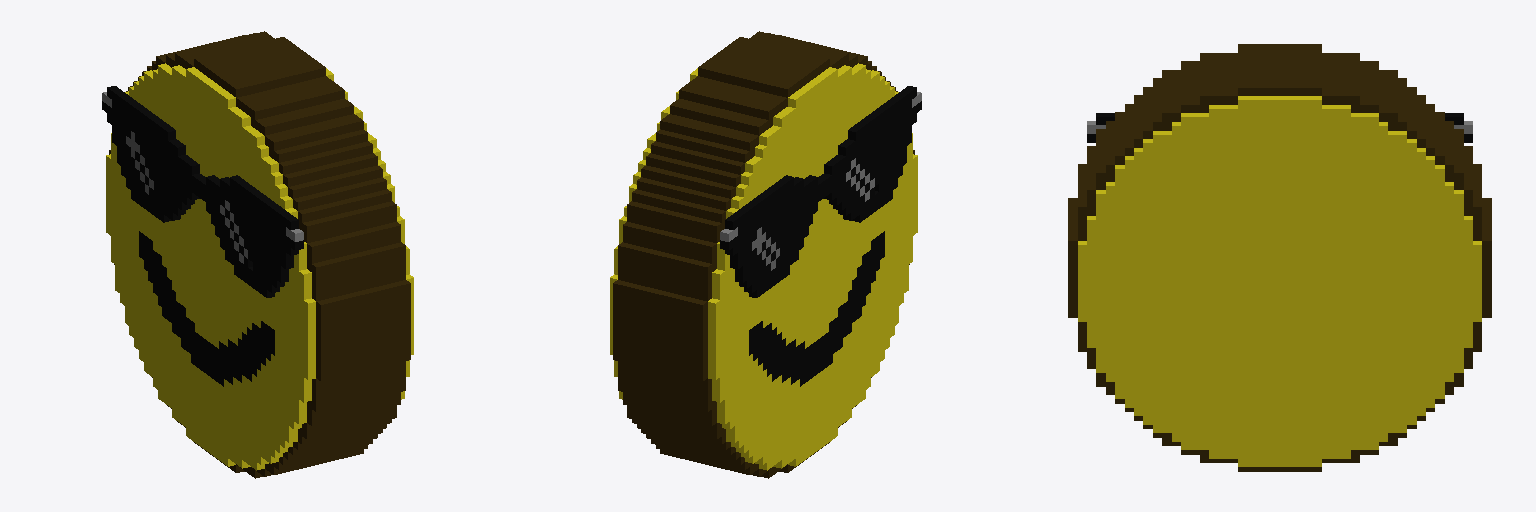
3 views of the same model, side by side, from view 1: azimuth 30°, elevation 25°; view 2: azimuth 150°, elevation 25°; view 3: azimuth 270°, elevation 25° (orthographic).
Size of the model in its own units: 14 by 45 by 45.
Materials: 1 (1 with a texture image).